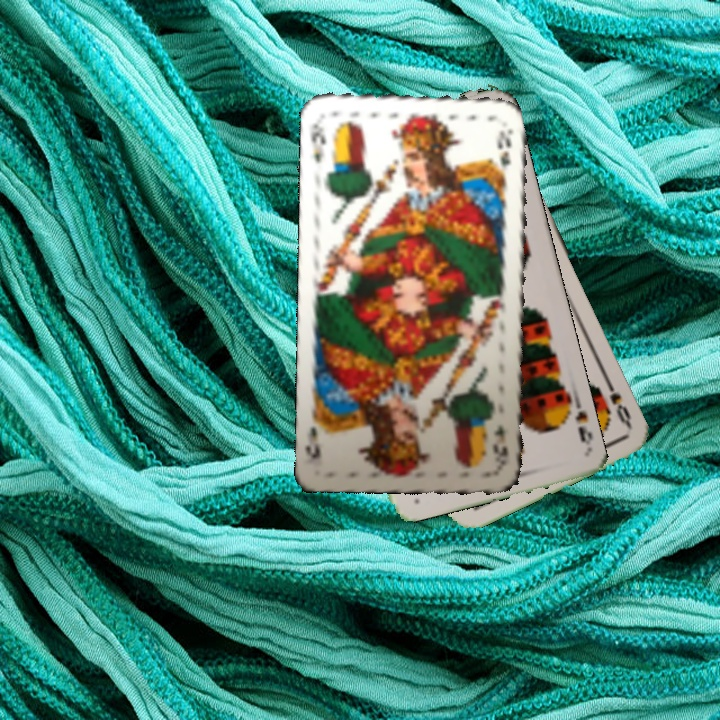EK: (307, 116, 329, 166), (489, 421, 511, 462)
S9: (561, 392, 594, 448)
SO: (600, 373, 634, 429)
